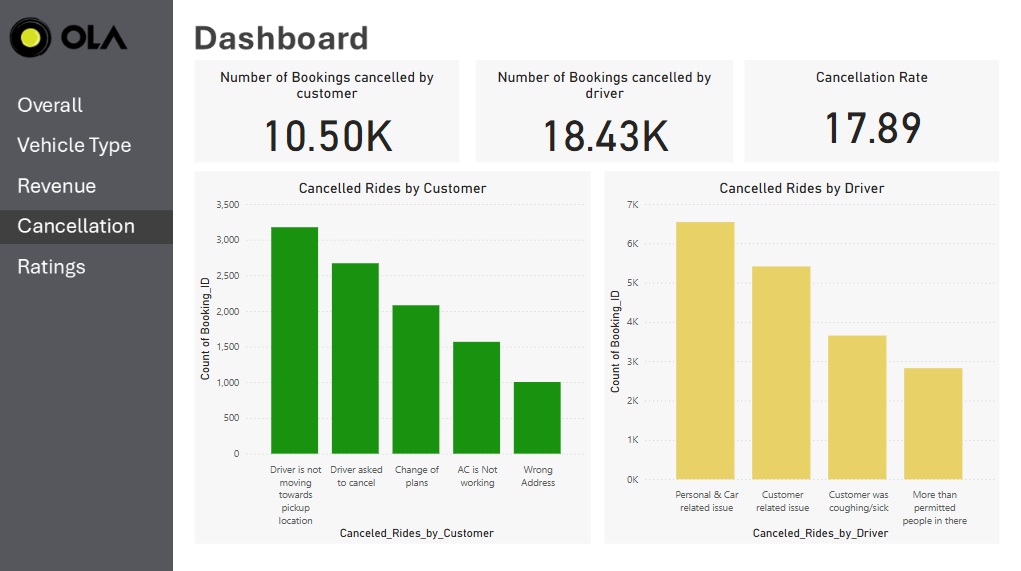

The dashboard page shown, as its layout file describes it:
{"tool":"powerbi","page":{"name":"Cancellations","canvas":[1280,720],"ordinal":3},"visuals":[{"type":"actionButton","box":[0,163,218,40],"z":0},{"type":"actionButton","box":[0,214.3,218.6,35.7],"z":1000},{"type":"actionButton","box":[0,314.3,218.6,35.7],"z":2000},{"type":"actionButton","box":[0,114.3,218.6,35.7],"z":3000},{"type":"columnChart","title":"Cancelled Rides by Customer","fields":{"Category":["July.Canceled_Rides_by_Customer"],"Y":["CountNonNull(July.Booking_ID)"]},"box":[246.9,214.1,495.3,465.6],"z":4000},{"type":"columnChart","title":"Cancelled Rides by Driver","fields":{"Category":["July.Canceled_Rides_by_Driver"],"Y":["CountNonNull(July.Booking_ID)"]},"box":[759.4,214.1,493.8,465.6],"z":5000},{"type":"card","title":"Number of Bookings cancelled by customer","fields":{"Values":["CountNonNull(July.Booking_ID)"]},"box":[246.9,75,331.2,128.1],"z":6000},{"type":"card","title":"Number of Bookings cancelled by driver","fields":{"Values":["CountNonNull(July.Booking_ID)"]},"box":[598.4,75,321.9,128.1],"z":7000},{"type":"card","title":"Cancellation Rate","fields":{"Values":["July.CancellationPercentage"]},"box":[934.4,75,318.8,128.1],"z":7001}]}

Visuals, with their boxes on the page's 1280x720 design canvas (x1, y1, x2, y2). These are canvas units, not pixel positions in the 1021x571 screenshot, which may show the page scaled, cropped or inside an application window:
actionButton: (x1=0, y1=163, x2=218, y2=203)
actionButton: (x1=0, y1=214, x2=219, y2=250)
actionButton: (x1=0, y1=314, x2=219, y2=350)
actionButton: (x1=0, y1=114, x2=219, y2=150)
"Cancelled Rides by Customer" columnChart: (x1=247, y1=214, x2=742, y2=680)
"Cancelled Rides by Driver" columnChart: (x1=759, y1=214, x2=1253, y2=680)
"Number of Bookings cancelled by customer" card: (x1=247, y1=75, x2=578, y2=203)
"Number of Bookings cancelled by driver" card: (x1=598, y1=75, x2=920, y2=203)
"Cancellation Rate" card: (x1=934, y1=75, x2=1253, y2=203)
